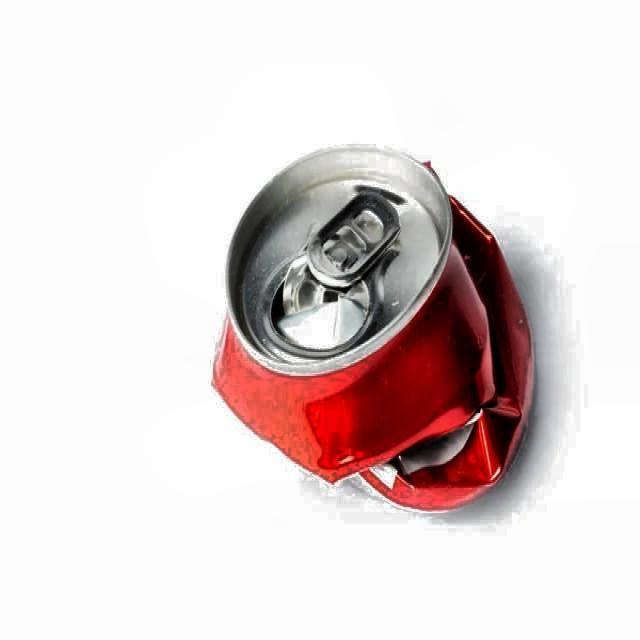metal: (212, 144, 537, 514)
